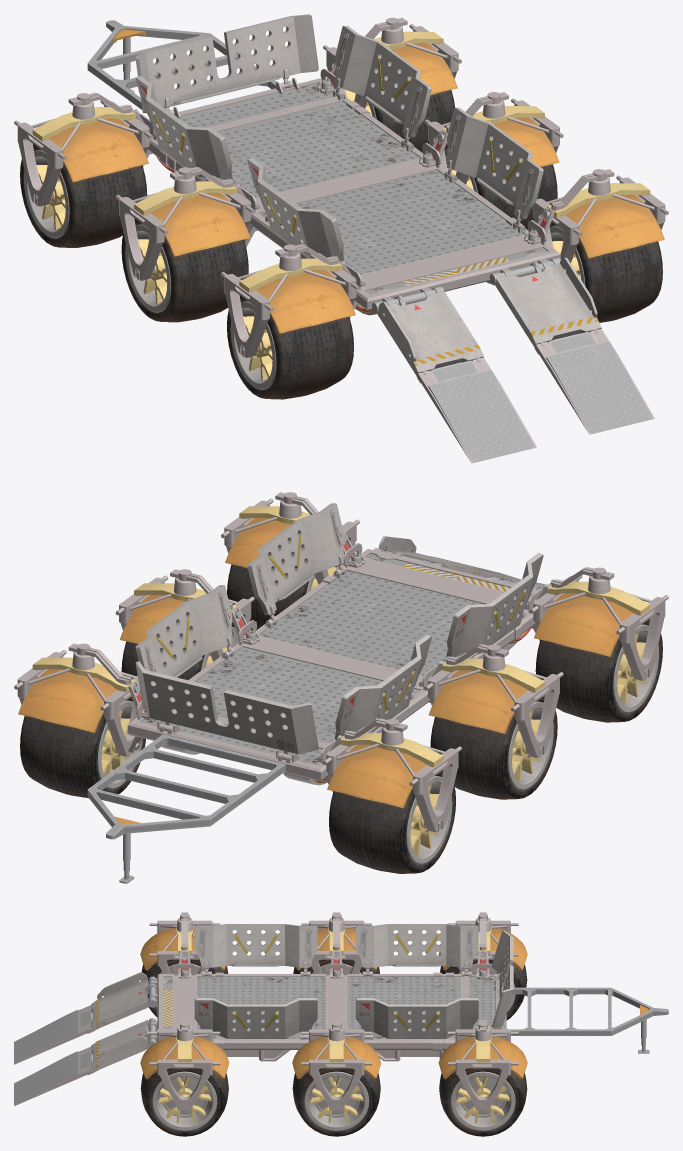
Rendered from reference-mars-rover.glb.
The picture shows the model from 3 angles, top to bottom: view 1: azimuth 30°, elevation 25°; view 2: azimuth 150°, elevation 25°; view 3: azimuth 270°, elevation 25°; orthographic projection. The views are drawn at different scales.
Parts seen in each view (by area): view 1: Mars Rover; view 2: Mars Rover; view 3: Mars Rover.
Boxes of the visible parts, x1,y1,x2,y2 form: Mars Rover: (14, 14, 668, 463); Mars Rover: (14, 492, 668, 883); Mars Rover: (14, 912, 668, 1136).
Bounding box in the file's own units: 161000 × 59610 × 312375.
Materials: 1 (1 with a texture image).
